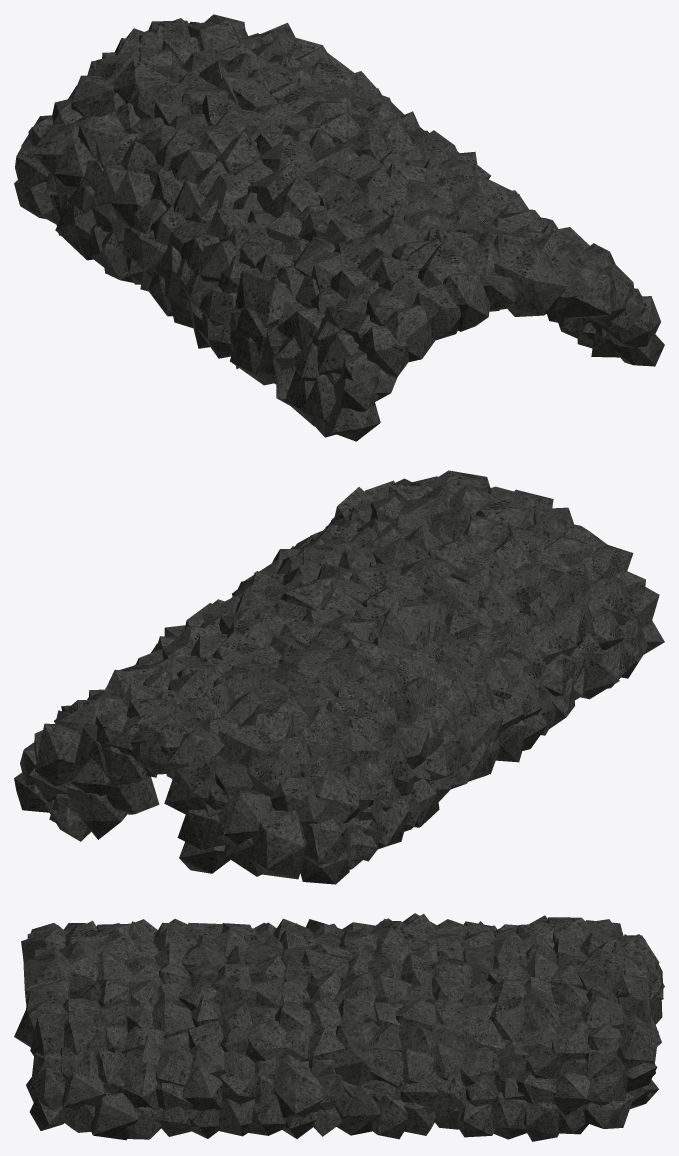
Rendered from 2_cave.fbx.
3 renders of one model, top to bottom at view 1: azimuth 30°, elevation 25°; view 2: azimuth 150°, elevation 25°; view 3: azimuth 270°, elevation 25°, orthographic. The views are drawn at different scales.
Visible parts, largest first — view 1: Gua_Spawn_Monster; view 2: Gua_Spawn_Monster; view 3: Gua_Spawn_Monster.
Boxes of the visible parts, x1,y1,x2,y2 form: Gua_Spawn_Monster: [14, 14, 664, 441]; Gua_Spawn_Monster: [14, 470, 664, 884]; Gua_Spawn_Monster: [14, 913, 664, 1141].
Size of the model in its own units: 2492 by 1082 by 4492.
